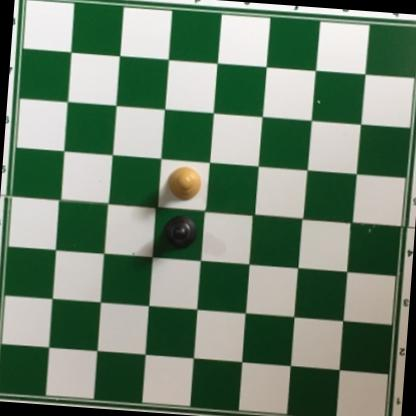black-pawn: (161, 214, 198, 252)
white-pawn: (164, 163, 203, 202)
